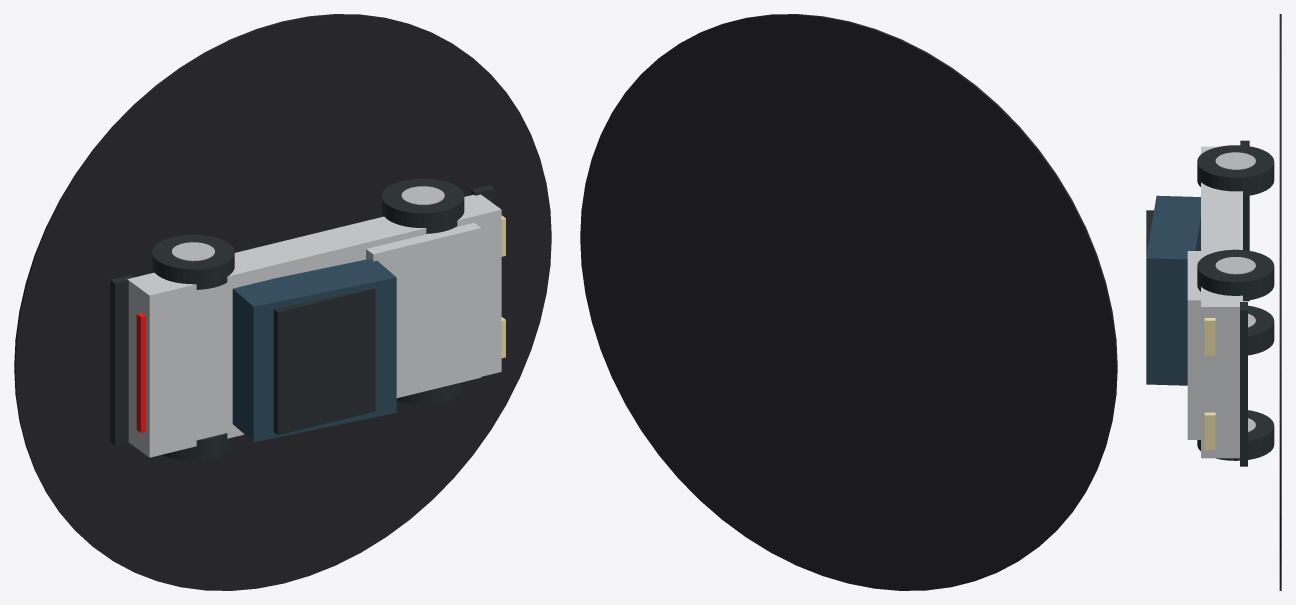
Rendered from porsche-911.glb.
3 views of the same model, side by side, from view 1: azimuth 30°, elevation 25°; view 2: azimuth 150°, elevation 25°; view 3: azimuth 270°, elevation 25° (orthographic). The views are drawn at different scales.
Parts seen in each view (by area): view 1: world; view 2: world; view 3: world.
Part boxes in pixels (x1,y1,x2,y2): world: (14,14,551,590); world: (580,14,1117,590); world: (1146,14,1281,590).
Size of the model in its own units: 6.3 by 6.3 by 1.48.
